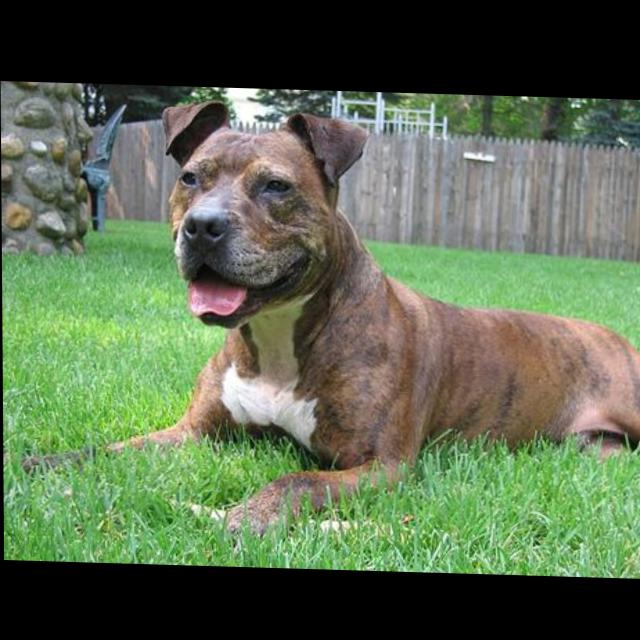amstaff: (2, 92, 640, 551)
